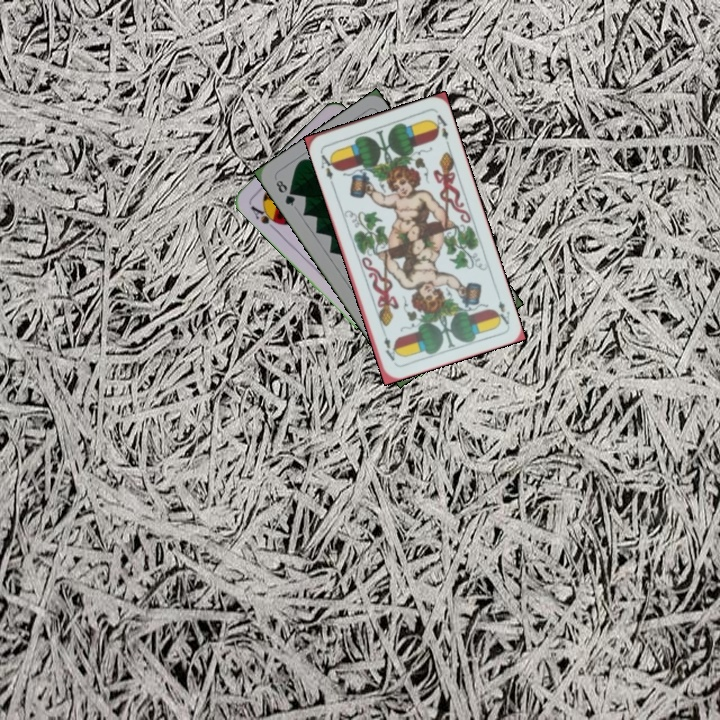EA: (316, 147, 338, 187), (490, 289, 512, 327)
G8: (272, 176, 298, 209)
SA: (246, 201, 283, 233)
